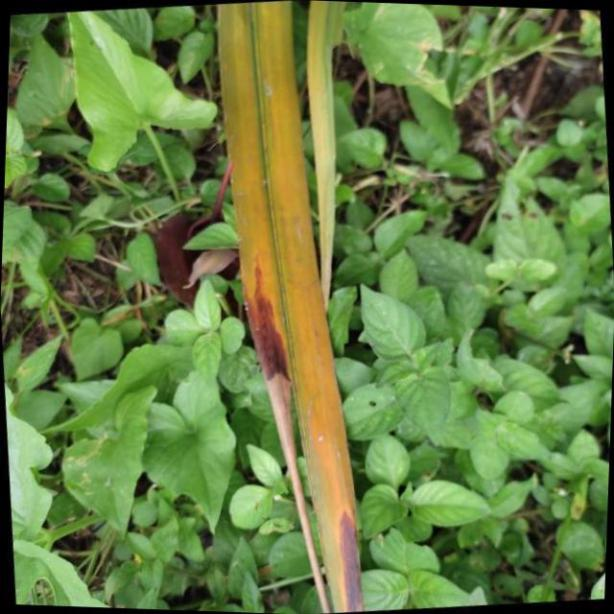Megnesium: (211, 0, 357, 614)
